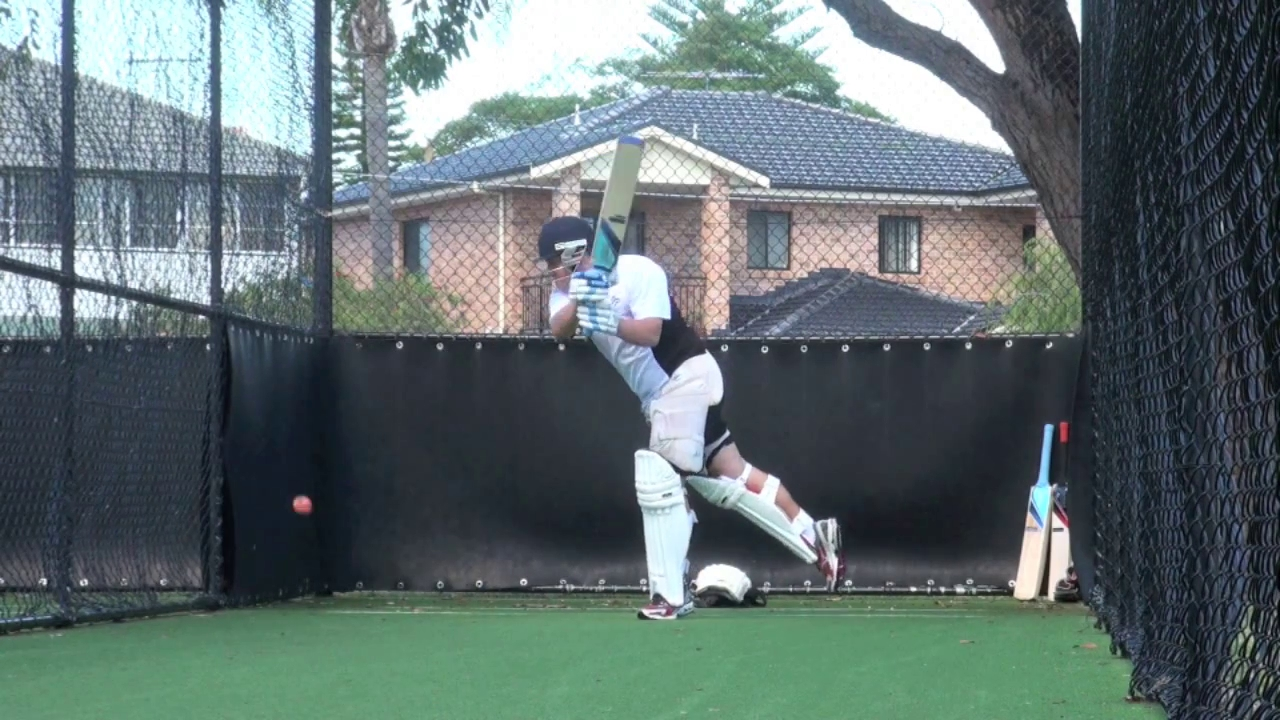person: (535, 217, 844, 620)
